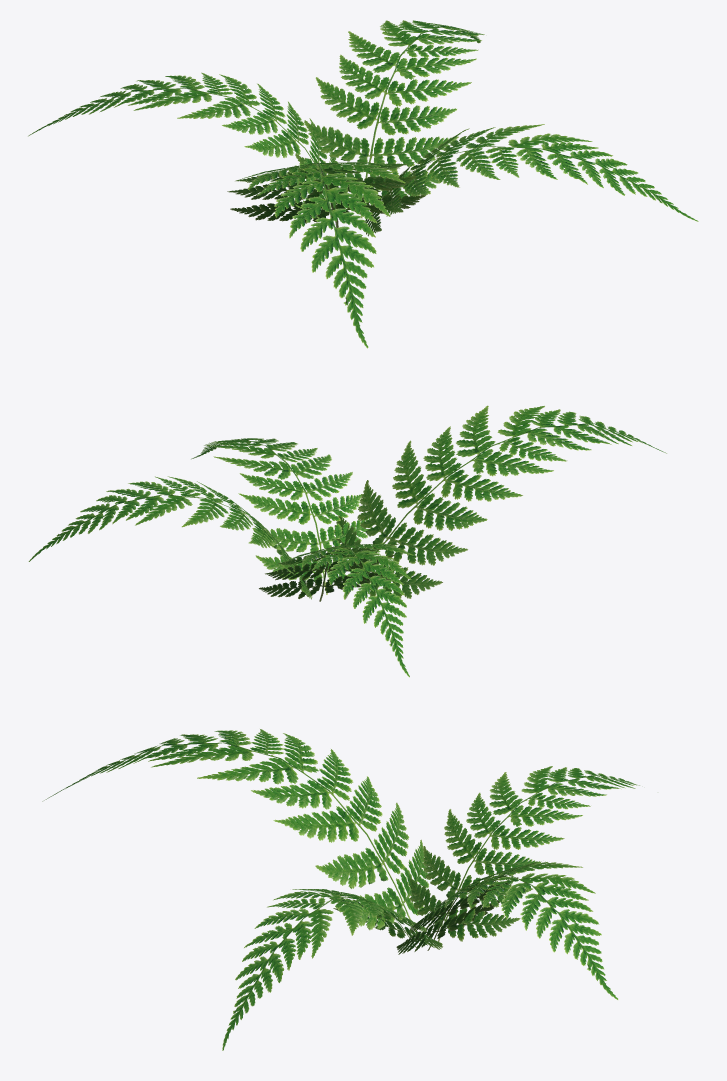
File: fern1.obj
3 views of the same model, one above another, from view 1: azimuth 30°, elevation 25°; view 2: azimuth 150°, elevation 25°; view 3: azimuth 270°, elevation 25° (orthographic). The views are drawn at different scales.
Parts seen in each view (by area): view 1: FernBranch001_COL_1K.001; view 2: FernBranch001_COL_1K.001; view 3: FernBranch001_COL_1K.001.
Boxes of the visible parts, x1,y1,x2,y2 form: FernBranch001_COL_1K.001: [28, 20, 698, 348]; FernBranch001_COL_1K.001: [28, 405, 666, 677]; FernBranch001_COL_1K.001: [42, 729, 639, 1050].
Bounding box in the file's own units: 1.99 × 0.5236 × 2.27.
1 material, 1 textured.
